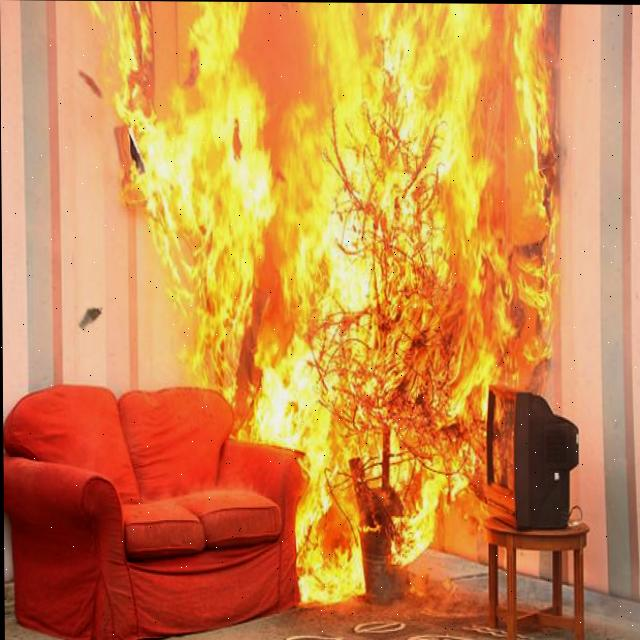fire: (94, 1, 556, 595)
